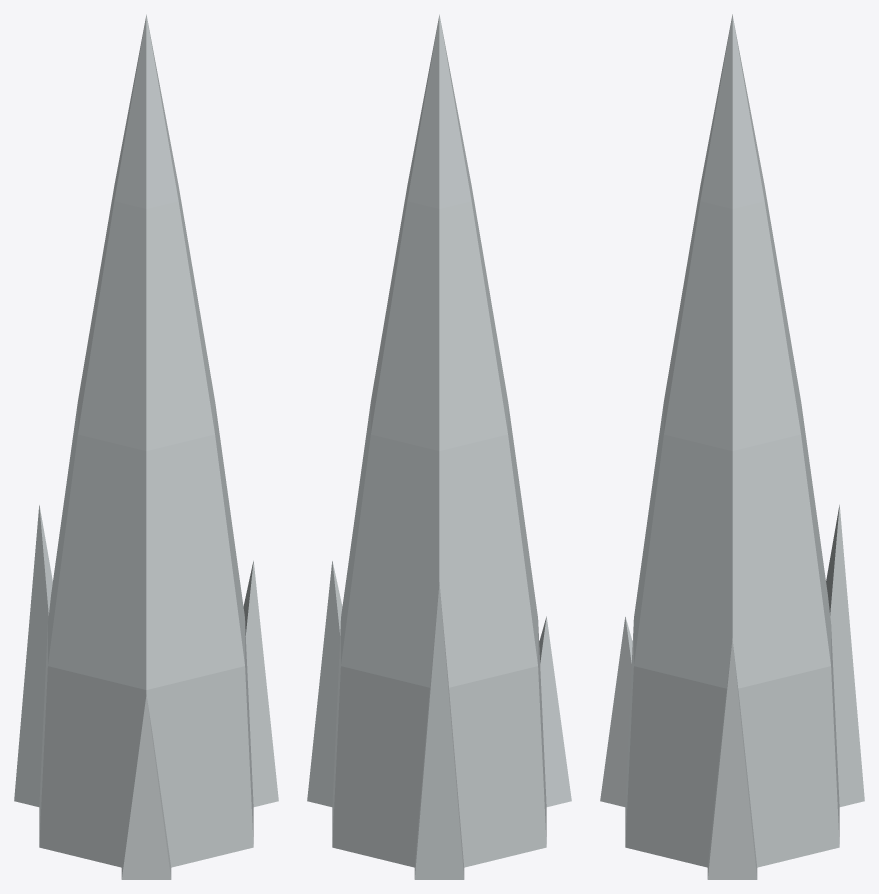
File: IceSpike.obj
3 views of the same model, side by side, from view 1: azimuth 30°, elevation 25°; view 2: azimuth 150°, elevation 25°; view 3: azimuth 270°, elevation 25° (orthographic).
Visible parts, largest first — view 1: IceSpike; view 2: IceSpike; view 3: IceSpike.
Boxes of the visible parts, x1=… form: IceSpike: x1=14, y1=14, x2=278, y2=879; IceSpike: x1=307, y1=14, x2=571, y2=879; IceSpike: x1=600, y1=14, x2=864, y2=879.
Size of the model in its own units: 1.06 by 3.6 by 1.07.
